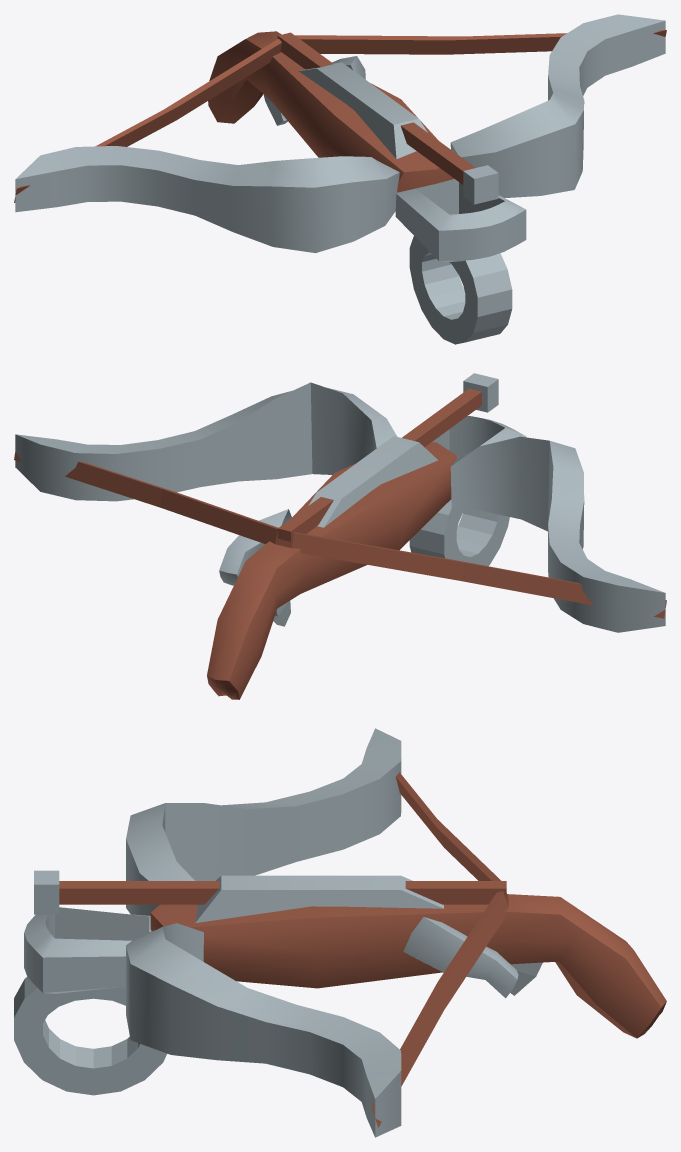
The model's file is crossbow_uncommon.glb.
3 views of the same model, one above another, from view 1: azimuth 30°, elevation 25°; view 2: azimuth 150°, elevation 25°; view 3: azimuth 270°, elevation 25° (orthographic). The views are drawn at different scales.
Parts seen in each view (by area): view 1: crossbow_uncommon; view 2: crossbow_uncommon; view 3: crossbow_uncommon.
Part boxes in pixels (x1,y1,x2,y2): crossbow_uncommon: (14,14,666,344); crossbow_uncommon: (14,373,666,699); crossbow_uncommon: (14,728,666,1137).
Size of the model in its own units: 1.04 by 0.2792 by 0.7704.
